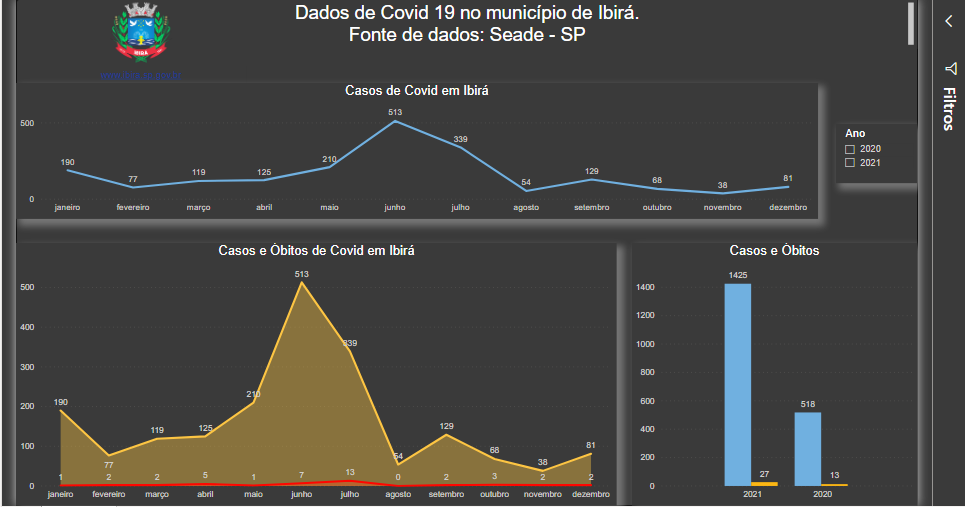

What the dashboard file says about the page in this screenshot:
{"tool":"powerbi","page":{"name":"Dados","canvas":[1280,720],"ordinal":0},"visuals":[{"type":"textbox","box":[27,95.1,301.1,55.4],"z":0},{"type":"lineChart","title":"Casos de Covid em Ibirá","fields":{"Category":["Sheet1.datahora.Variation.Hierarquia de datas.Ano","Sheet1.datahora.Variation.Hierarquia de datas.Trimestre","Sheet1.datahora.Variation.Hierarquia de datas.Mês","Sheet1.datahora.Variation.Hierarquia de datas.Dia"],"Y":["Sum(Sheet1.casos_novos)"]},"box":[0,119.3,1138.9,193.1],"z":1000},{"type":"slicer","fields":{"Values":["Sheet1.Ano"]},"box":[1164.5,177.5,115,83.8],"z":2000},{"type":"clusteredColumnChart","title":"Casos e Óbitos","fields":{"Category":["Sheet1.Ano"],"Y":["Sum(Sheet1.casos_novos)","Sum(Sheet1.obitos_novos)"]},"box":[874.8,346.5,404.7,373.5],"z":3000},{"type":"areaChart","title":"Casos e Óbitos de Covid em Ibirá","fields":{"Category":["Sheet1.datahora.Variation.Hierarquia de datas.Ano","Sheet1.datahora.Variation.Hierarquia de datas.Trimestre","Sheet1.datahora.Variation.Hierarquia de datas.Mês","Sheet1.datahora.Variation.Hierarquia de datas.Dia"],"Y":["Sum(Sheet1.obitos_novos)","Sum(Sheet1.casos_novos)"]},"box":[0,346.5,853.5,373.5],"z":4000},{"type":"textbox","box":[9.9,0,1269.6,71],"z":5000},{"type":"image","box":[76.7,0,201.7,95.1],"z":6000}]}

Visuals, with their boxes in screenshot pixels (x1, y1, x2, y2):
textbox: {"x1": 19, "y1": 33, "x2": 237, "y2": 73}
"Casos de Covid em Ibirá" lineChart: {"x1": 0, "y1": 51, "x2": 821, "y2": 190}
slicer - Sheet1.Ano: {"x1": 839, "y1": 93, "x2": 922, "y2": 153}
"Casos e Óbitos" clusteredColumnChart: {"x1": 631, "y1": 215, "x2": 922, "y2": 484}
"Casos e Óbitos de Covid em Ibirá" areaChart: {"x1": 0, "y1": 215, "x2": 615, "y2": 484}
textbox: {"x1": 7, "y1": 0, "x2": 922, "y2": 16}
image: {"x1": 55, "y1": 0, "x2": 201, "y2": 33}
